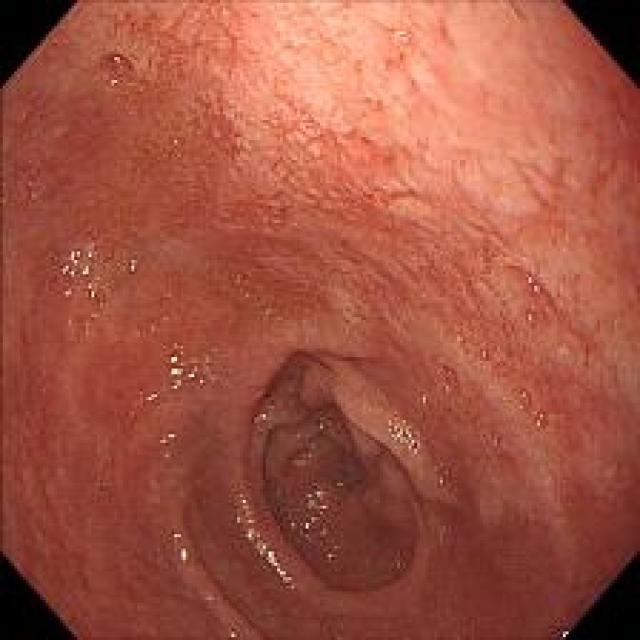bubbles: (45, 232, 116, 330), (485, 259, 564, 345), (95, 38, 144, 100), (506, 379, 548, 435), (428, 365, 469, 405), (431, 455, 461, 492), (389, 25, 420, 58), (369, 50, 398, 84), (116, 254, 136, 281)
color misalignment: (386, 419, 421, 456), (528, 272, 541, 294), (522, 309, 536, 325), (520, 386, 528, 401), (538, 410, 545, 419)
saturation: (326, 9, 522, 169)
specularity: (236, 498, 295, 592), (288, 488, 332, 545), (385, 416, 421, 458), (152, 430, 181, 464), (64, 246, 91, 276), (119, 250, 144, 281), (168, 342, 182, 389), (144, 388, 161, 404), (198, 375, 220, 386), (188, 359, 199, 380), (179, 545, 190, 565), (254, 414, 268, 424), (86, 284, 95, 299), (171, 529, 182, 541), (88, 249, 99, 260), (290, 456, 301, 466), (111, 55, 121, 64), (108, 79, 119, 86), (202, 354, 211, 362), (65, 289, 72, 296)
